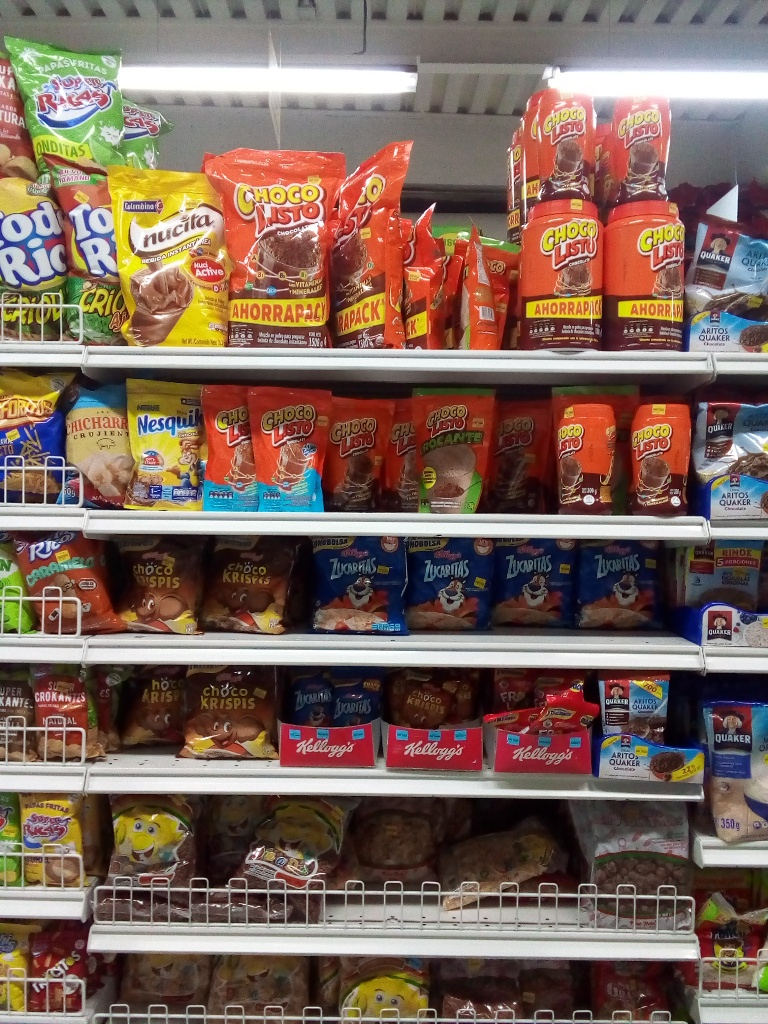COL0170103TRR00100: (515, 198, 605, 357)
